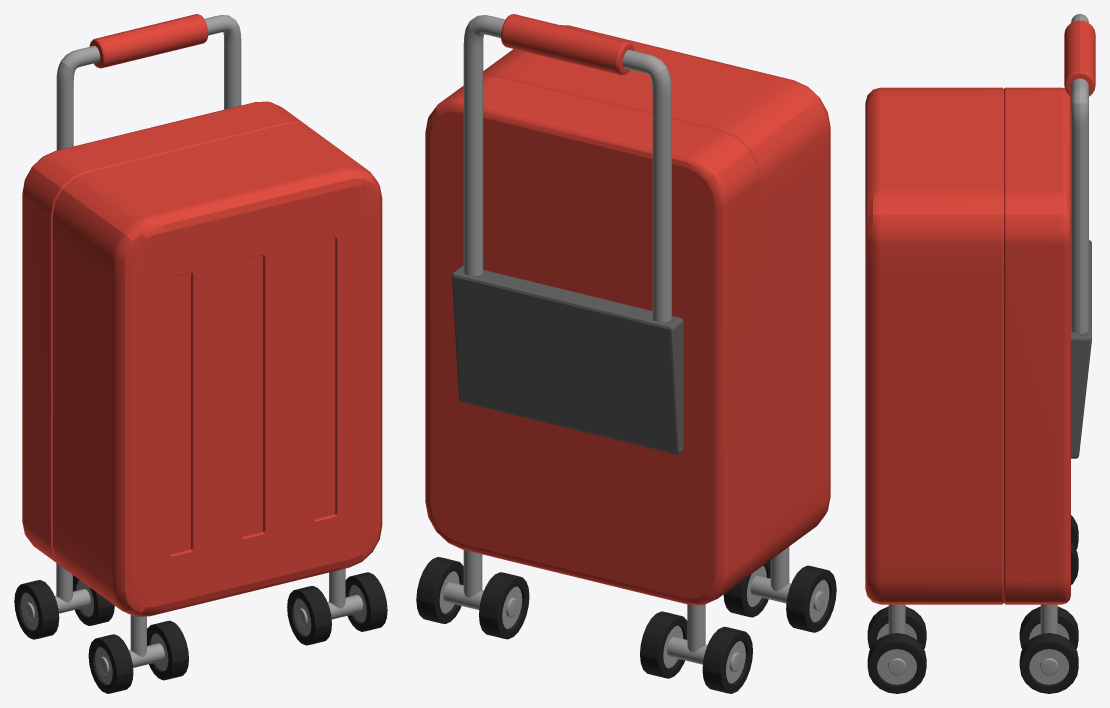
3 renders of one model, left to right at view 1: azimuth 30°, elevation 25°; view 2: azimuth 150°, elevation 25°; view 3: azimuth 270°, elevation 25°, orthographic. The views are drawn at different scales.
Parts seen in each view (by area): view 1: l1; view 2: l1; view 3: l1.
Boxes of the visible parts, x1,y1,x2,y2 form: l1: (14,14,387,693); l1: (416,14,836,693); l1: (865,14,1095,693).
Size of the model in its own units: 114 by 227 by 81.51.
1 material, 1 textured.
